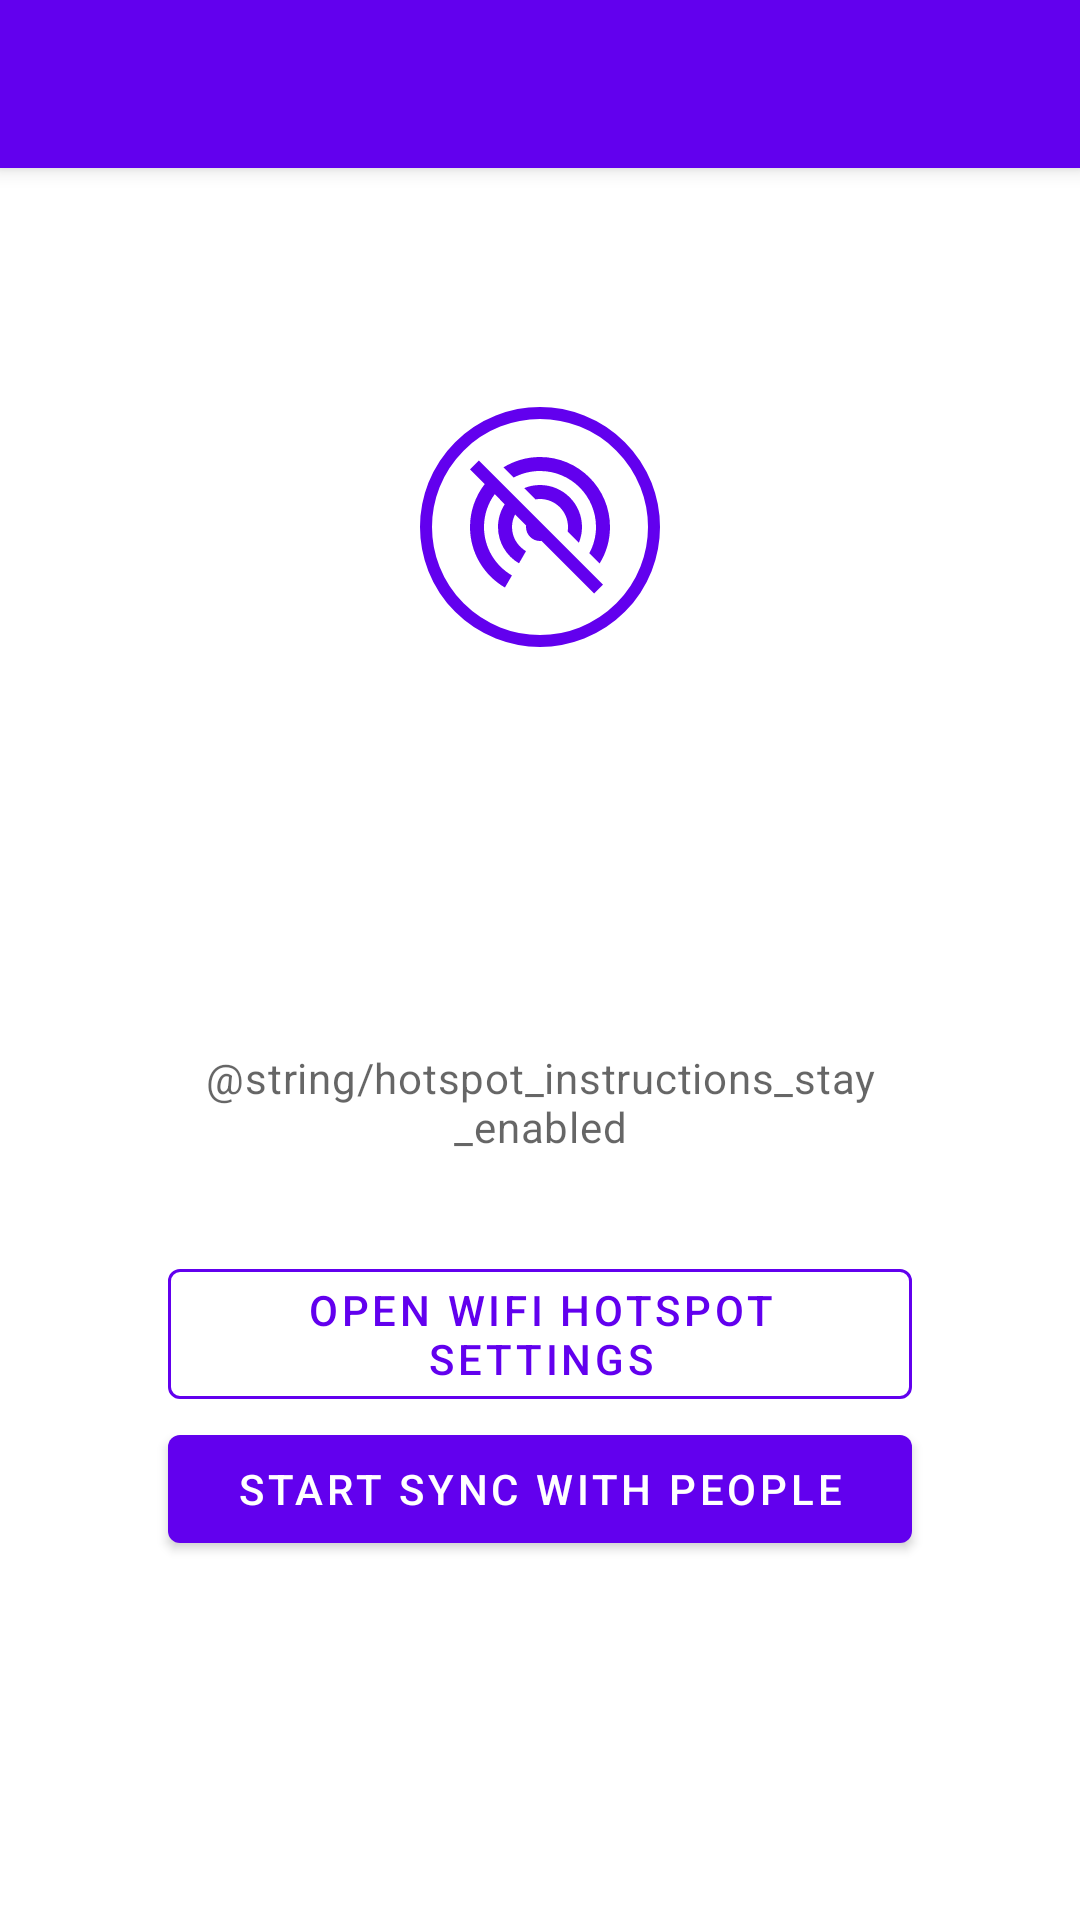

Screen size 1080w x 1920h. Icon name, then its box in pixels as (x1, y1, x2, y2):
hotspot: (420, 407, 660, 647)
